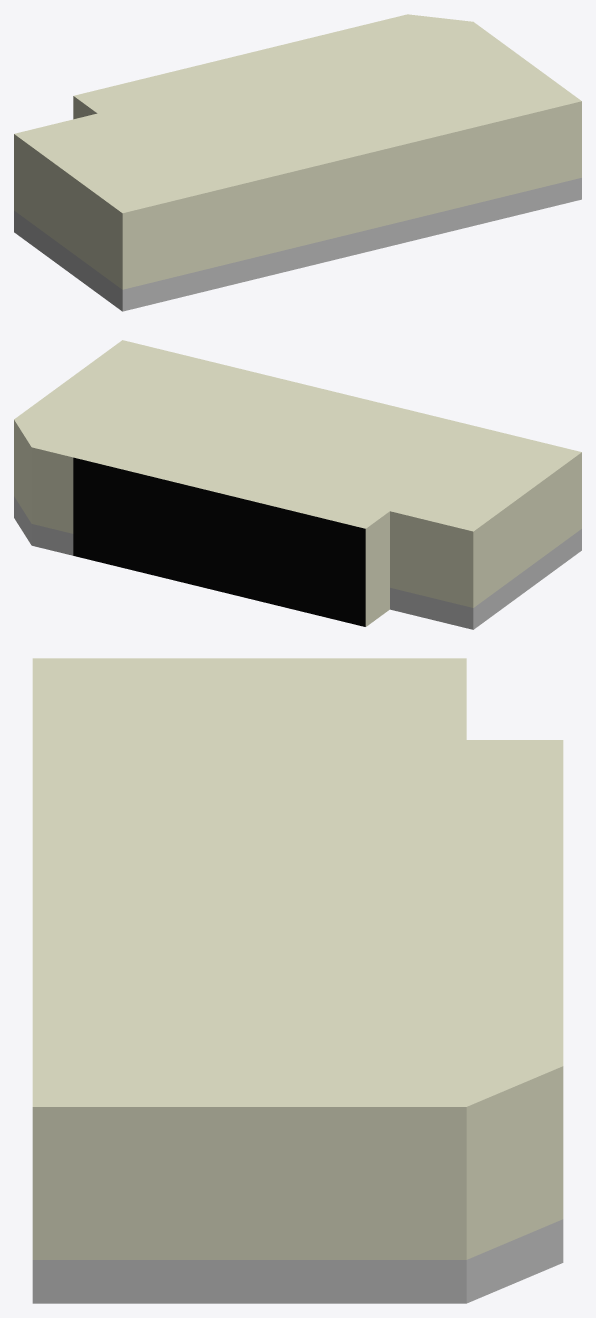
Rendered from RoadStage.glb.
3 views of the same model, one above another, from view 1: azimuth 30°, elevation 25°; view 2: azimuth 150°, elevation 25°; view 3: azimuth 270°, elevation 25° (orthographic). The views are drawn at different scales.
Visible parts, largest first — view 1: Walls, Stage; view 2: Walls, Stage, Neon Frame; view 3: Walls, Stage.
Boxes of the visible parts, x1,y1,x2,y2 form: Walls: (14, 14, 581, 311); Stage: (73, 24, 389, 119); Walls: (14, 340, 581, 629); Stage: (73, 440, 389, 626); Neon Frame: (244, 510, 286, 607); Walls: (32, 658, 563, 1303); Stage: (466, 740, 563, 1025).
Bounding box in the file's own units: 22 × 4.5 × 11.
